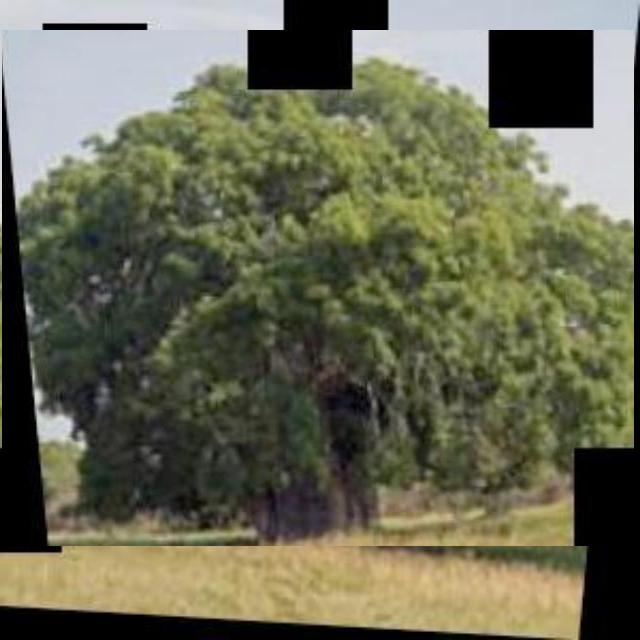tree: (2, 30, 634, 546)
